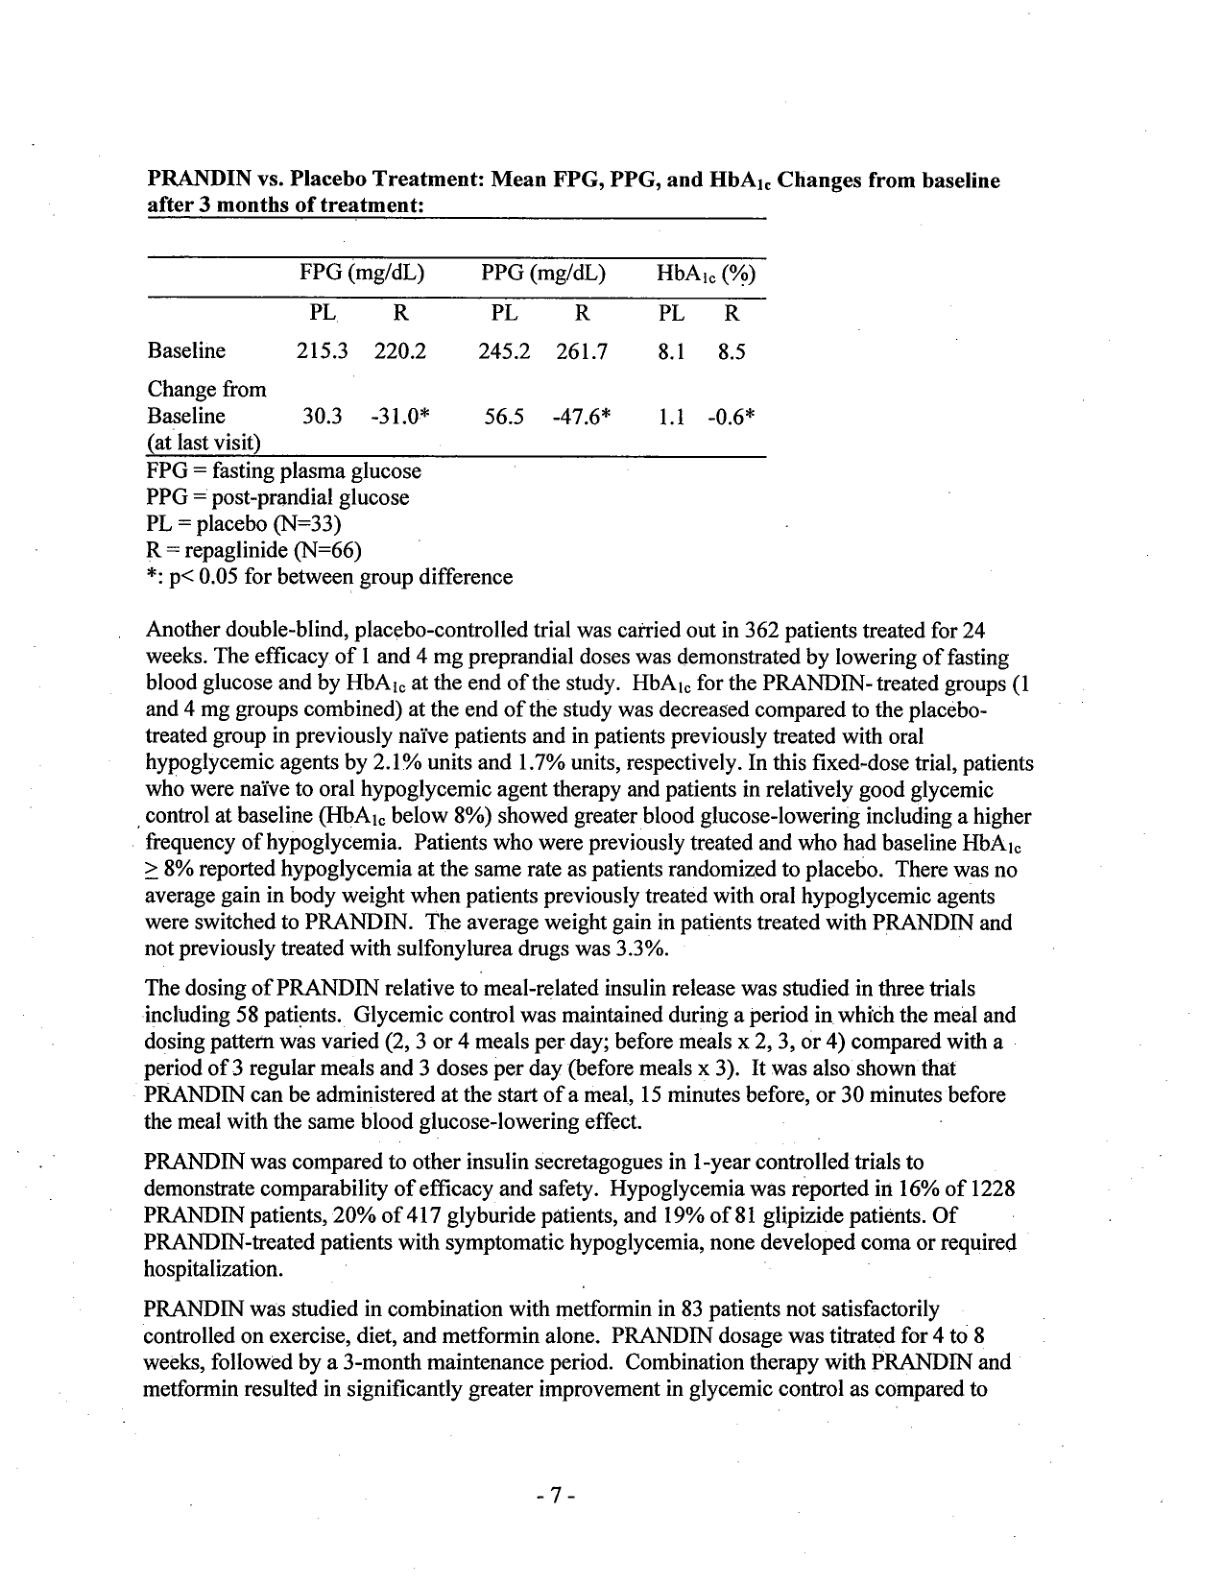partial_lined: (147, 216, 766, 458)
